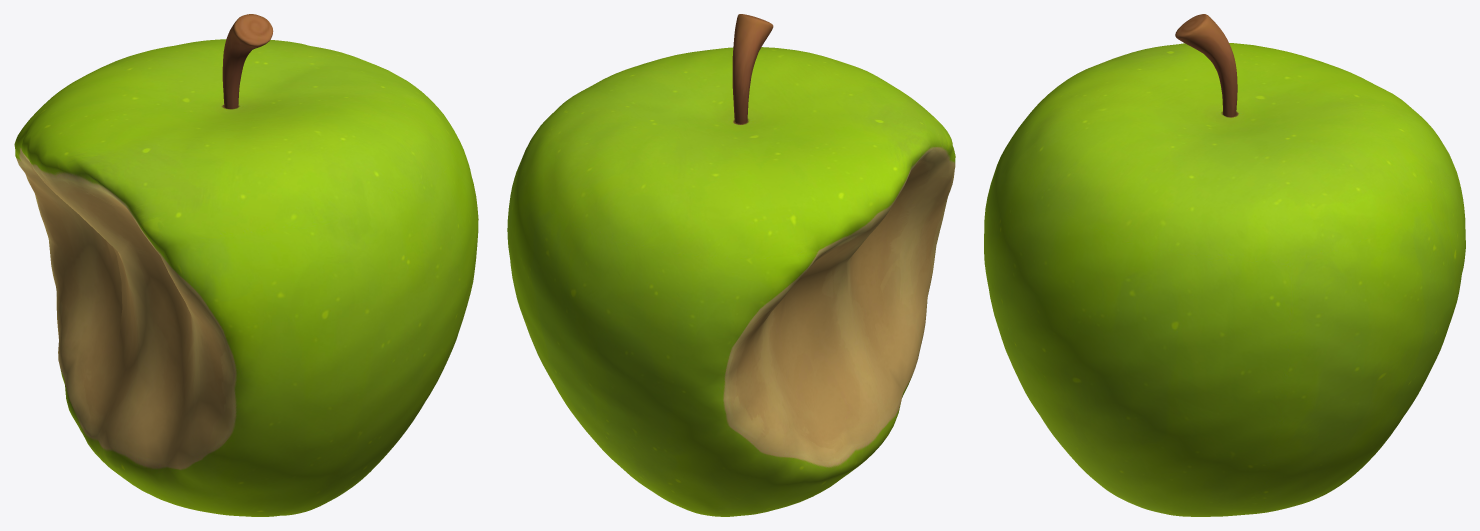
The model's file is apple_whole_green_bitten_003.glb.
3 renders of one model, left to right at view 1: azimuth 30°, elevation 25°; view 2: azimuth 150°, elevation 25°; view 3: azimuth 270°, elevation 25°, orthographic. The views are drawn at different scales.
Parts seen in each view (by area): view 1: APPLE_green_Bitten.003; view 2: APPLE_green_Bitten.003; view 3: APPLE_green_Bitten.003.
Boxes of the visible parts, x1=… form: APPLE_green_Bitten.003: x1=14, y1=14, x2=478, y2=516; APPLE_green_Bitten.003: x1=507, y1=14, x2=955, y2=516; APPLE_green_Bitten.003: x1=984, y1=14, x2=1465, y2=516.
Size of the model in its own units: 0.0743 by 0.0881 by 0.0806.
1 material, 1 textured.
